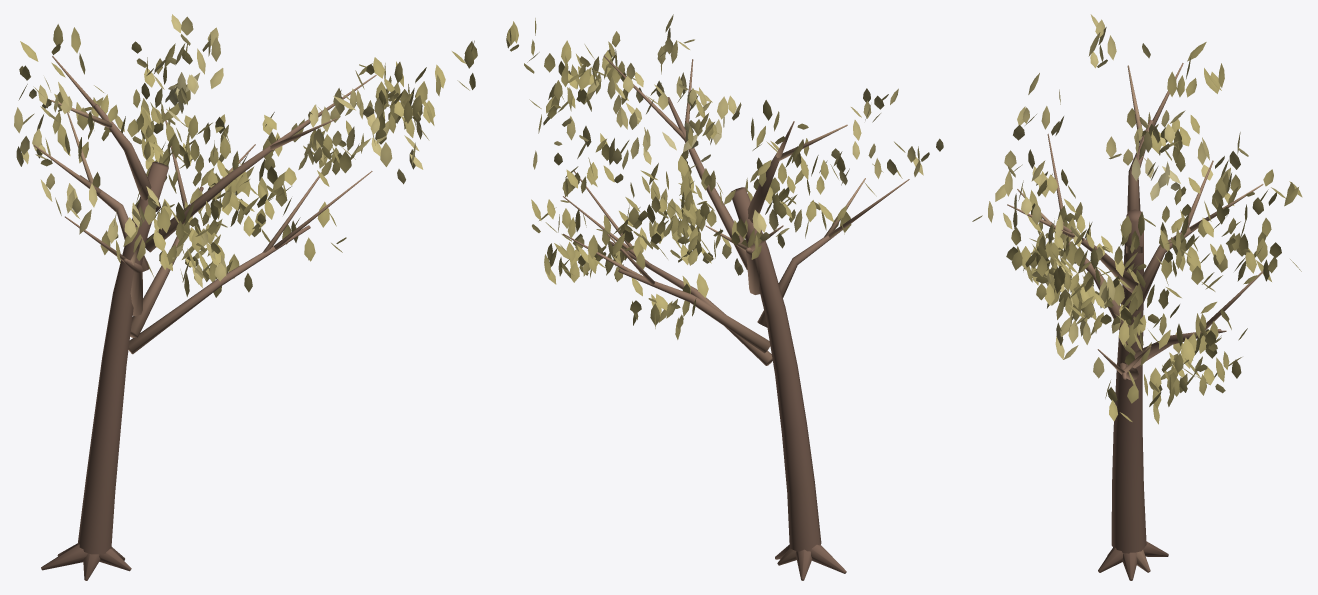
The model's file is tree_3d_04_yellow.glb.
3 renders of one model, left to right at view 1: azimuth 30°, elevation 25°; view 2: azimuth 150°, elevation 25°; view 3: azimuth 270°, elevation 25°, orthographic. The views are drawn at different scales.
Visible parts, largest first — view 1: tree_3d_04_yellow_foliage, tree_3d_04_yellow_wood; view 2: tree_3d_04_yellow_foliage, tree_3d_04_yellow_wood; view 3: tree_3d_04_yellow_foliage, tree_3d_04_yellow_wood.
Part boxes in pixels (x1,y1,x2,y2): tree_3d_04_yellow_foliage: (14,14,477,297); tree_3d_04_yellow_wood: (34,56,376,580); tree_3d_04_yellow_foliage: (506,14,943,339); tree_3d_04_yellow_wood: (563,55,909,580); tree_3d_04_yellow_foliage: (972,14,1302,424); tree_3d_04_yellow_wood: (1007,63,1268,580).
Size of the model in its own units: 11.62 by 12.75 by 7.41.
